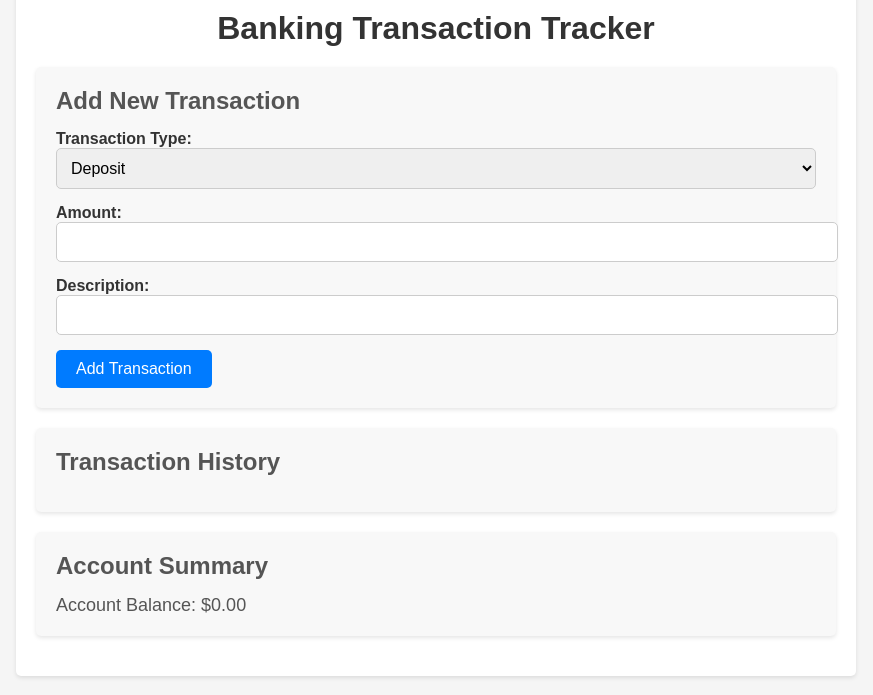
Test: Bank › Banking_Transaction_Tracker › Deposit_Transactions › adds_a_deposit_transaction_with_all_non_empty_fields
Select Deposit from the transaction type dropdown
Select "Deposit" in the dropdown labelled "Transaction Type:": (436, 168) left=56, top=148, right=816, bottom=189
Fill in the amount and description fields
In the number field labelled "Amount:": (447, 242) left=56, top=222, right=838, bottom=262, type "100"
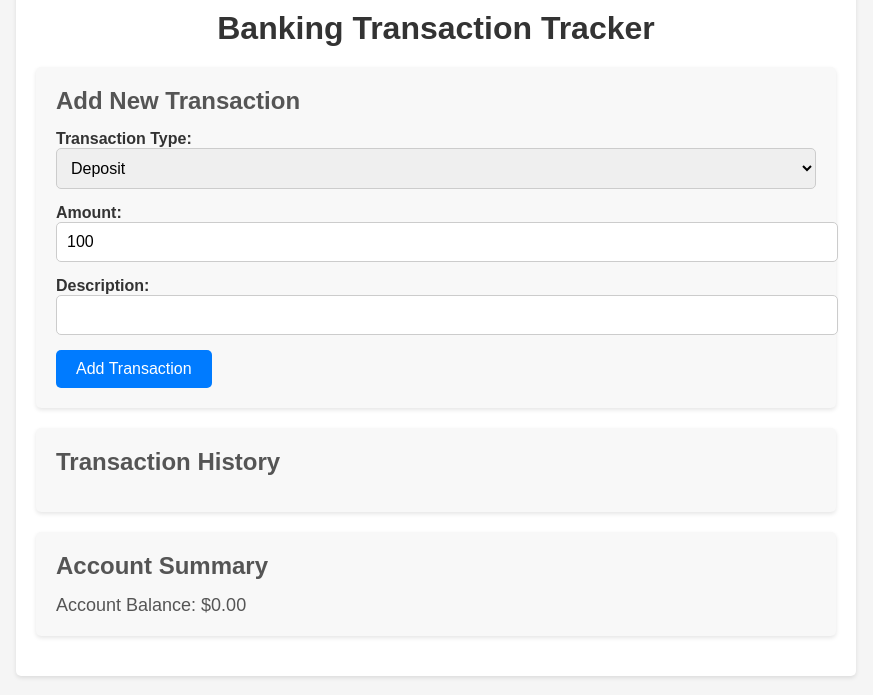
In the field labelled "Description:": (447, 315) left=56, top=295, right=838, bottom=335, type "Deposit Test"
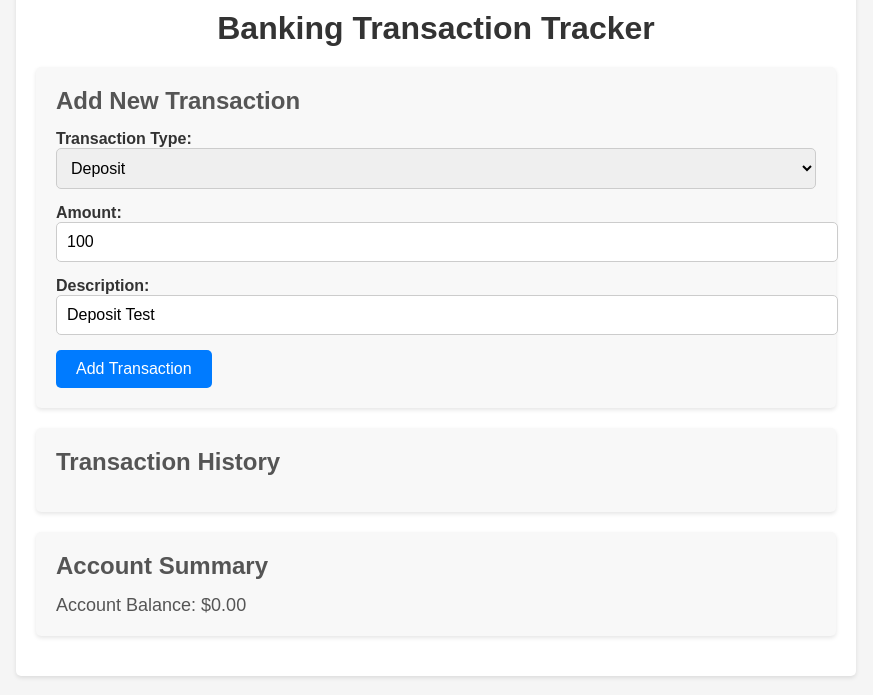
Click the Add Transaction button
Click the button "Add Transaction": (134, 369) left=56, top=350, right=212, bottom=388
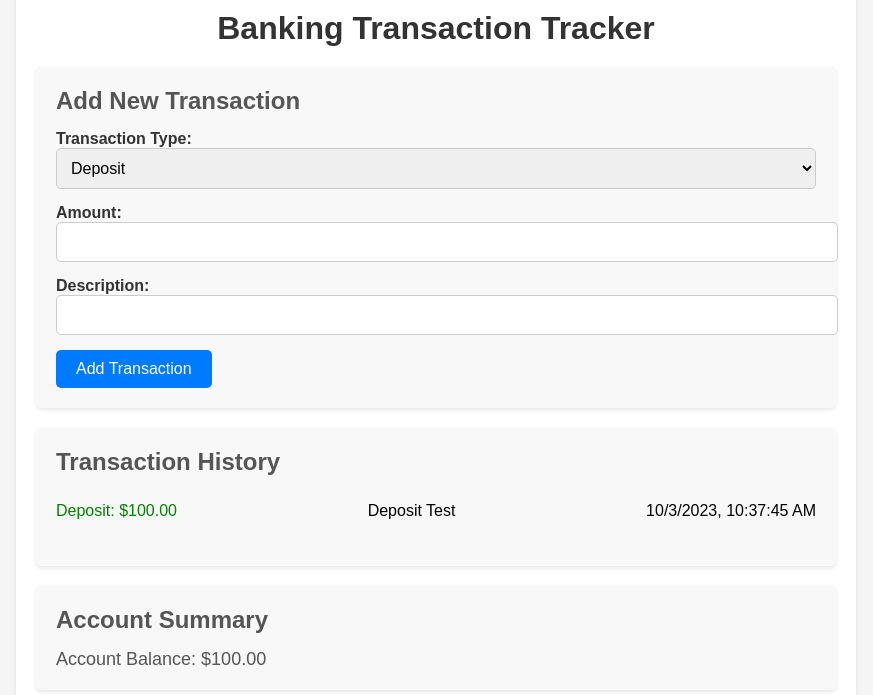
Check: the text "Deposit: $100.00" is shown, box left=56, top=502, right=177, bottom=520
Check: the text "Account Balance: $100.00" is shown, box left=56, top=649, right=266, bottom=669
